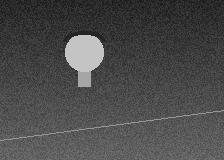no_helmet: (65, 31, 103, 76)
